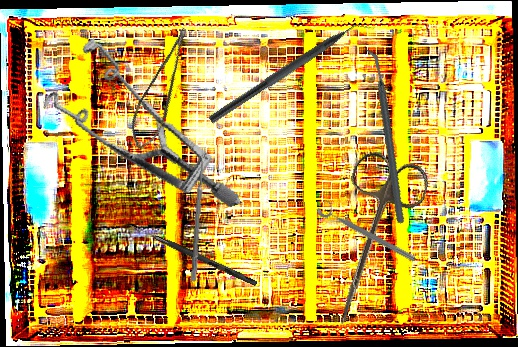Chopper: (323, 46, 447, 225), (207, 11, 377, 135)
Fixation Ring: (314, 196, 421, 266)
Hook Surgical: (127, 222, 259, 287)
Iris Scissors: (309, 147, 433, 337)
Micro Scissor: (119, 25, 209, 154)
Speculum: (28, 10, 242, 254)
Surgical Spoon: (190, 146, 207, 282)
